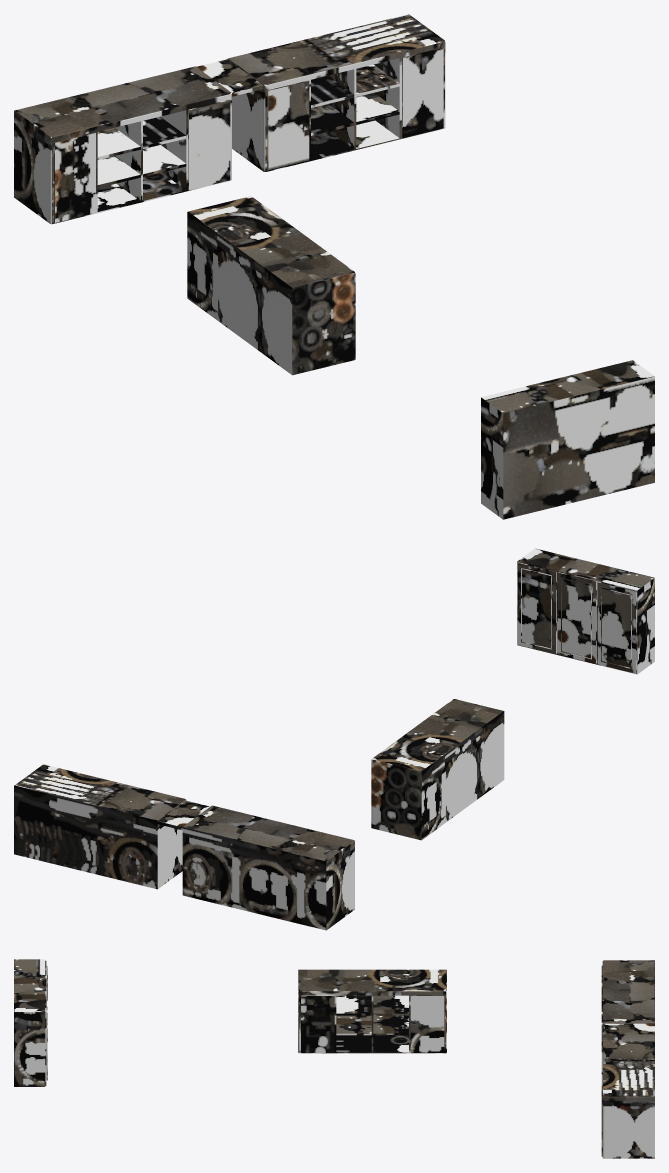
Rendered from hotelhamilton_5.obj.
3 views of the same model, one above another, from view 1: azimuth 30°, elevation 25°; view 2: azimuth 150°, elevation 25°; view 3: azimuth 270°, elevation 25° (orthographic). The views are drawn at different scales.
Bounding box in the file's own units: 3.7 × 0.95 × 7.33.
